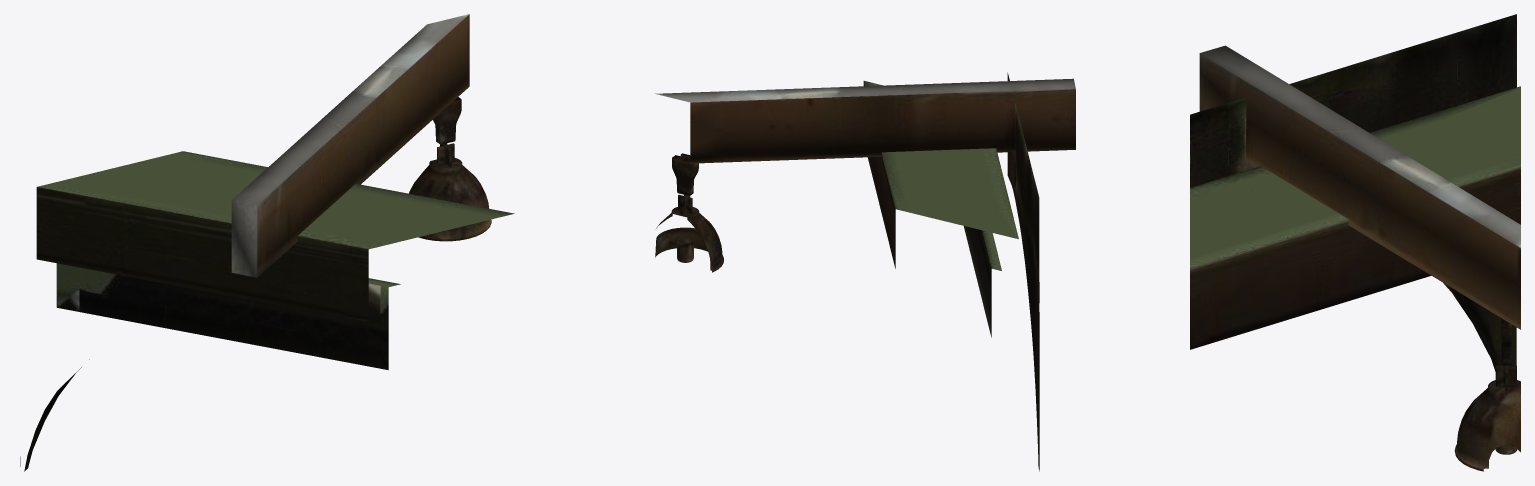
The picture shows the model from 3 angles, left to right: view 1: azimuth 30°, elevation 25°; view 2: azimuth 150°, elevation 25°; view 3: azimuth 270°, elevation 25°; orthographic projection. The views are drawn at different scales.
Size of the model in its own units: 2.83 by 2 by 1.57.
1 material, 1 textured.
